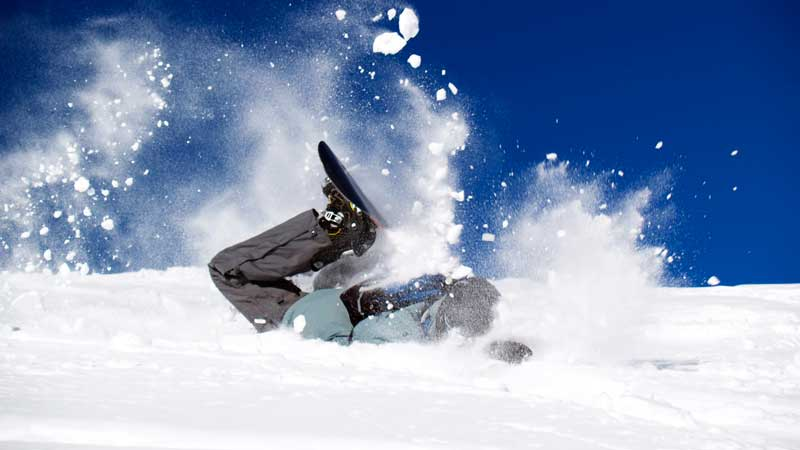snowboarder: (206, 140, 551, 367)
